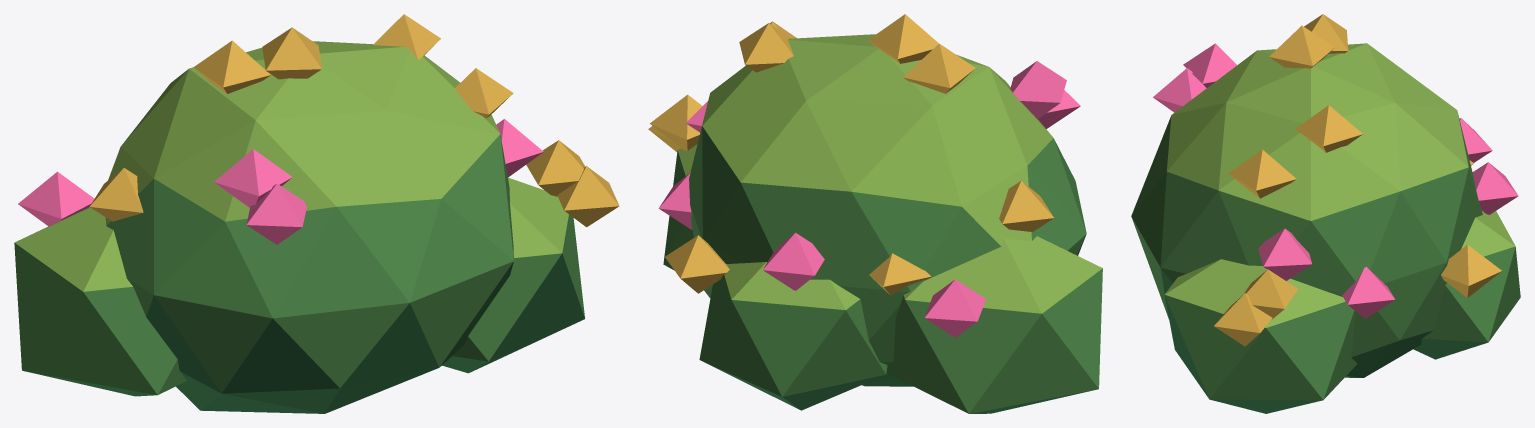
Rendered from bush_c.glb.
The picture shows the model from 3 angles, left to right: view 1: azimuth 30°, elevation 25°; view 2: azimuth 150°, elevation 25°; view 3: azimuth 270°, elevation 25°; orthographic projection. The views are drawn at different scales.
Parts seen in each view (by area): view 1: Body; view 2: Body; view 3: Body.
Boxes of the visible parts, box(x1,y1,x2,y2) form: Body: box(14, 14, 619, 413); Body: box(648, 14, 1102, 413); Body: box(1131, 14, 1520, 413).
Bounding box in the file's own units: 2.14 × 1.43 × 1.56.
